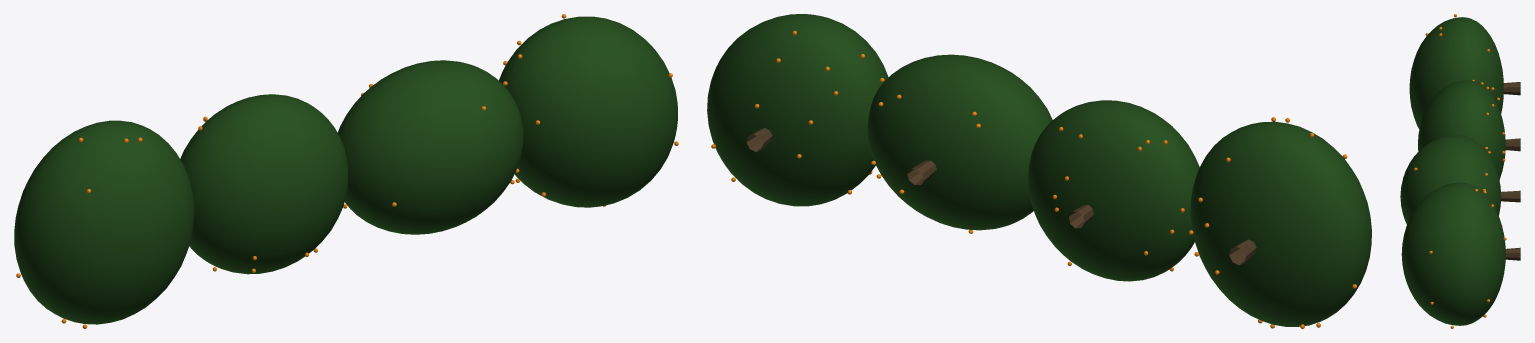
Rendered from citrus_plain4_d_fruit.obj.
3 views of the same model, side by side, from view 1: azimuth 30°, elevation 25°; view 2: azimuth 150°, elevation 25°; view 3: azimuth 270°, elevation 25° (orthographic). The views are drawn at different scales.
Parts seen in each view (by area): view 1: canopy, fruit; view 2: canopy, trunk, fruit; view 3: canopy, trunk, fruit.
Part boxes in pixels (<box>): canopy: <box>14,16,677,324</box>; fruit: <box>16,14,678,328</box>; canopy: <box>707,14,1371,326</box>; trunk: <box>746,128,1256,265</box>; fruit: <box>711,30,1356,328</box>; canopy: <box>1400,17,1505,325</box>; trunk: <box>1501,82,1520,260</box>; fruit: <box>1414,14,1506,328</box>.
Size of the model in its own units: 12.15 by 3.52 by 2.82.
